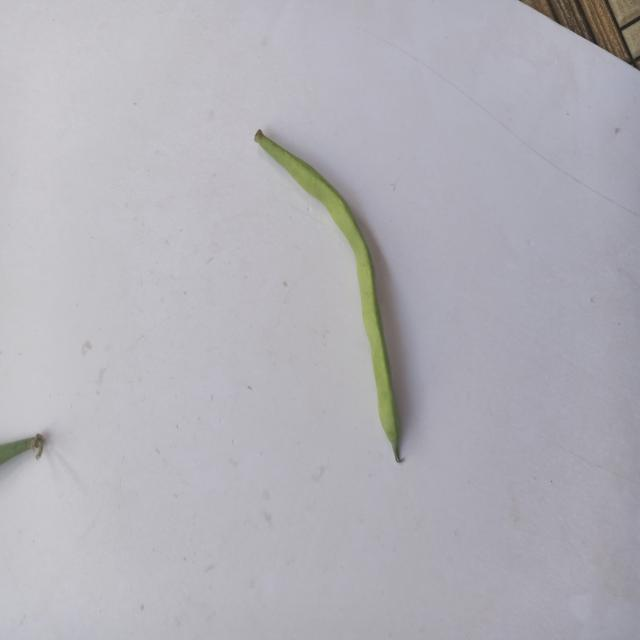Beans: (238, 116, 422, 486)
